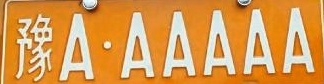A: (60, 14, 94, 80)
